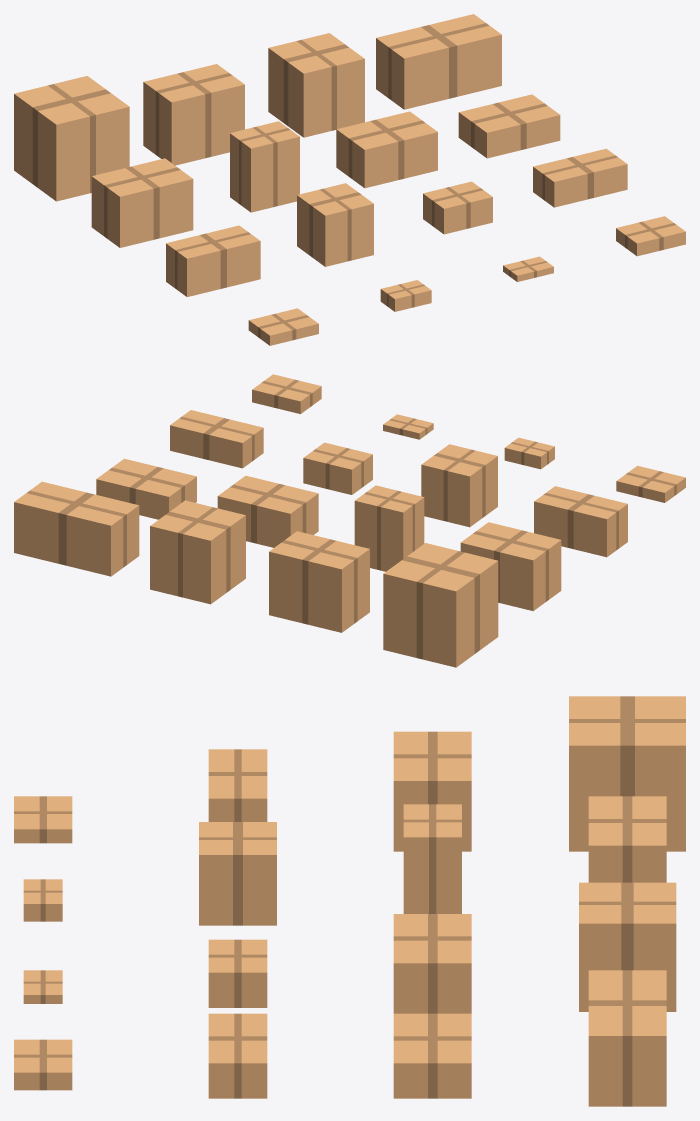
Rendered from blenderBox.glb.
3 renders of one model, top to bottom at view 1: azimuth 30°, elevation 25°; view 2: azimuth 150°, elevation 25°; view 3: azimuth 270°, elevation 25°, orthographic. The views are drawn at different scales.
Size of the model in its own units: 3.7 by 0.6 by 3.45.
